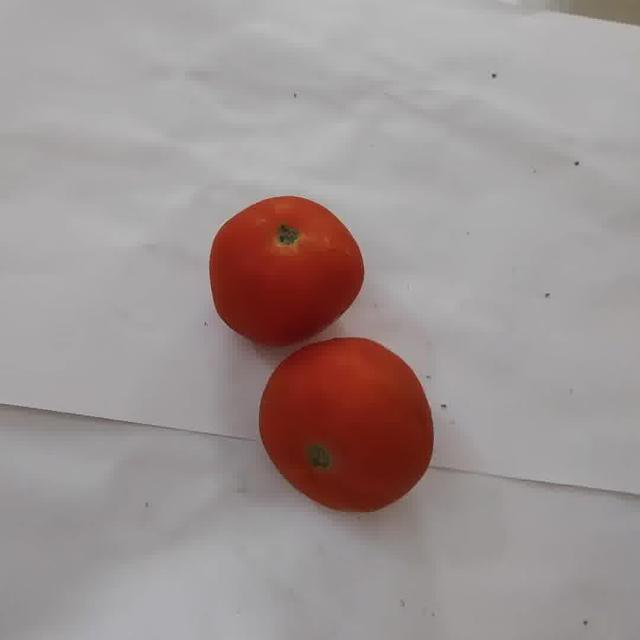Tomato: (259, 338, 434, 511), (209, 197, 364, 347)
